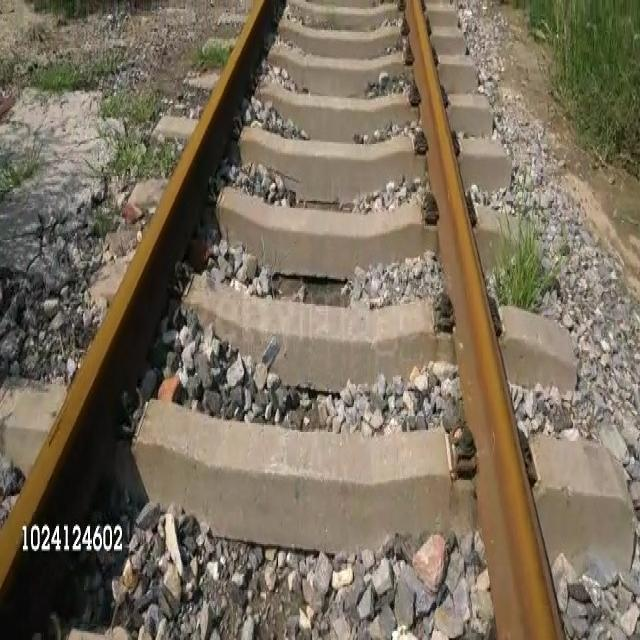Plant: (517, 0, 639, 178), (492, 210, 549, 309), (101, 140, 181, 174), (100, 94, 164, 125), (0, 156, 42, 202), (28, 62, 85, 89), (195, 42, 230, 65)
